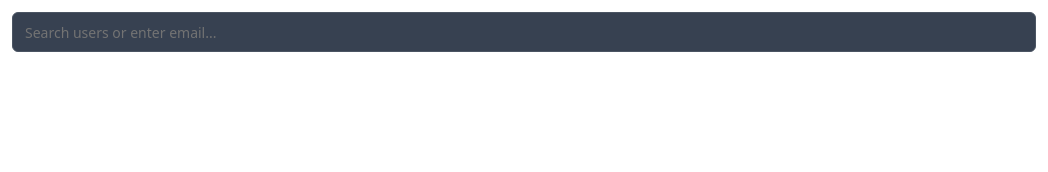
Test case: UserPicker › User Selection › should show "Unassigned" option when search is empty
Focus the field with placeholder "Search users or enter email..." at [524, 32], box x1=12 y1=12 x2=1036 y2=52
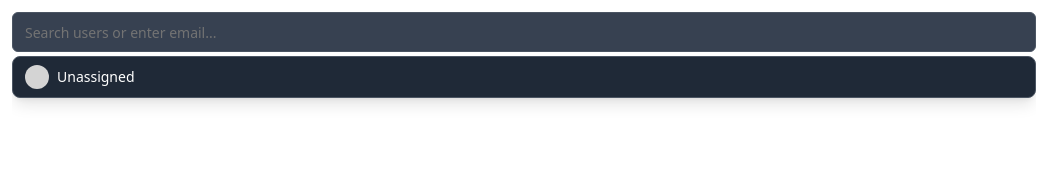
expect the text "Unassigned" is shown: met, box x1=57 y1=67 x2=134 y2=87
